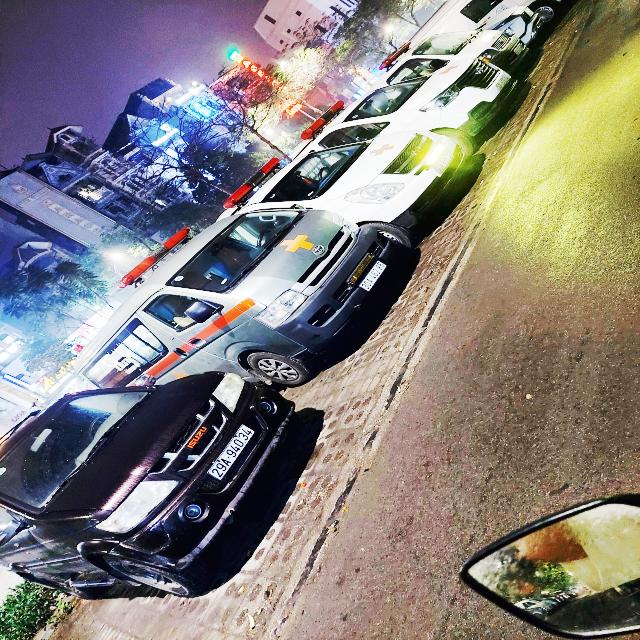license_plate: (208, 425, 259, 484), (360, 259, 391, 294), (432, 151, 457, 175)
